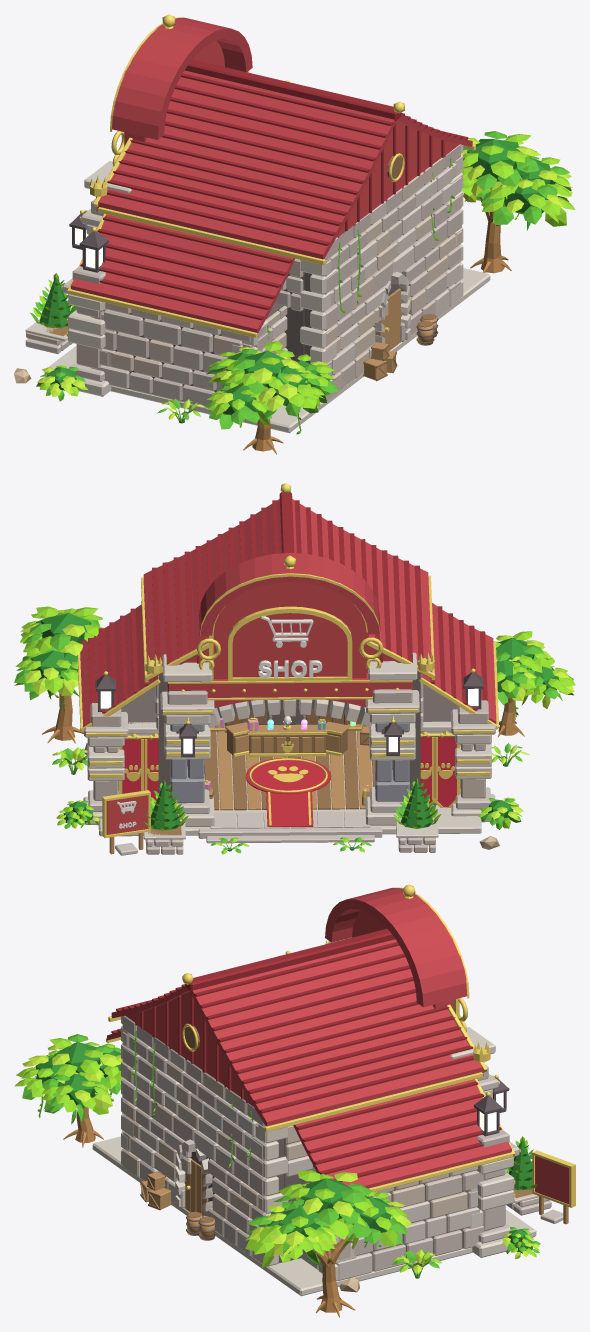
Rendered from Floor1_Shop.fbx.
3 views of the same model, one above another, from view 1: azimuth 30°, elevation 25°; view 2: azimuth 150°, elevation 25°; view 3: azimuth 270°, elevation 25° (orthographic). The views are drawn at different scales.
Parts seen in each view (by area): view 1: Shop_Roof_Main__Shop_Roof, Shop_Roof_Main__Shop_Roof_Dark, Shop_Walls_Hall__Castle_Stone, Shop_Front_Gable__Shop_Roof, Shop_Walls_Wings__Castle_Stone, Shop_Walls_Hall__Castle_Stone_Light, Shop_Walls_Hall__Castle_Stone_Warm, Shop_Walls_Hall__Castle_Trim, Shop_Roof_Main__Gold, Shop_Roof_Main__Red_Wood, Shop_Land_Tree_Small_9__Leaves_Light, Shop_Land_Tree_Medium_High_8__Leaves_Light (+21 smaller); view 2: Shop_Roof_Main__Shop_Roof, Shop_Roof_Main__Shop_Roof_Dark, Shop_Main_Sign__Red_Wood, Shop_Pillars__Castle_Trim, Shop_Front_Gable__Shop_Roof, Shop_Front_Gable__Red_Wood, Shop_Floor__Castle_Stone_Light, Shop_Walls_Wings__Castle_Trim, Shop_Entrance_Arch__Red_Wood, Shop_Pillars__Shop_Stone_Dark, Shop_Floor__Interior_Wood, Shop_Floor__Shop_Wood (+46 smaller); view 3: Shop_Roof_Main__Shop_Roof, Shop_Roof_Main__Shop_Roof_Dark, Shop_Walls_Hall__Castle_Stone, Shop_Front_Gable__Shop_Roof, Shop_Walls_Hall__Castle_Stone_Light, Shop_Walls_Hall__Castle_Stone_Warm, Shop_Walls_Wings__Castle_Stone, Shop_Land_Tree_Medium_High_8__Leaves_Light, Shop_Walls_Wings__Castle_Stone_Light, Shop_Floor__Castle_Trim, Shop_Roof_Main__Red_Wood, Shop_Walls_Hall__Castle_Trim (+21 smaller).
Part boxes in pixels (box(x1,y1,x2,y2)): Shop_Roof_Main__Shop_Roof: box(70, 70, 472, 333); Shop_Roof_Main__Shop_Roof_Dark: box(80, 59, 468, 320); Shop_Walls_Hall__Castle_Stone: box(275, 145, 461, 388); Shop_Front_Gable__Shop_Roof: box(111, 17, 252, 139); Shop_Walls_Wings__Castle_Stone: box(72, 266, 287, 407); Shop_Walls_Hall__Castle_Stone_Light: box(281, 163, 461, 375); Shop_Walls_Hall__Castle_Stone_Warm: box(289, 157, 461, 400); Shop_Walls_Hall__Castle_Trim: box(300, 144, 463, 397); Shop_Roof_Main__Gold: box(67, 101, 475, 337); Shop_Roof_Main__Red_Wood: box(337, 121, 459, 237); Shop_Land_Tree_Small_9__Leaves_Light: box(207, 340, 335, 427); Shop_Land_Tree_Medium_High_8__Leaves_Light: box(461, 134, 575, 226); Shop_Roof_Main__Shop_Roof: box(80, 499, 496, 726); Shop_Roof_Main__Shop_Roof_Dark: box(88, 492, 487, 713); Shop_Main_Sign__Red_Wood: box(232, 613, 347, 677); Shop_Pillars__Castle_Trim: box(162, 652, 417, 826); Shop_Front_Gable__Shop_Roof: box(199, 553, 380, 635); Shop_Front_Gable__Red_Wood: box(161, 582, 418, 679); Shop_Floor__Castle_Stone_Light: box(198, 811, 382, 843); Shop_Walls_Wings__Castle_Trim: box(83, 721, 495, 824); Shop_Entrance_Arch__Red_Wood: box(167, 673, 412, 707); Shop_Pillars__Shop_Stone_Dark: box(170, 723, 409, 803); Shop_Floor__Interior_Wood: box(204, 730, 375, 810); Shop_Floor__Shop_Wood: box(217, 730, 372, 810); Shop_Roof_Main__Shop_Roof: box(107, 939, 511, 1188); Shop_Roof_Main__Shop_Roof_Dark: box(111, 928, 501, 1181); Shop_Walls_Hall__Castle_Stone: box(122, 1015, 265, 1263); Shop_Front_Gable__Shop_Roof: box(325, 888, 467, 1007); Shop_Walls_Hall__Castle_Stone_Light: box(122, 1031, 312, 1256); Shop_Walls_Hall__Castle_Stone_Warm: box(122, 1060, 313, 1219); Shop_Walls_Wings__Castle_Stone: box(338, 1129, 509, 1271); Shop_Land_Tree_Medium_High_8__Leaves_Light: box(245, 1170, 407, 1268); Shop_Walls_Wings__Castle_Stone_Light: box(300, 1142, 519, 1280); Shop_Floor__Castle_Trim: box(92, 1136, 536, 1296); Shop_Roof_Main__Red_Wood: box(125, 992, 253, 1106); Shop_Walls_Hall__Castle_Trim: box(121, 1016, 288, 1266).
Bounding box in the file's own units: 7444 × 3988 × 6927.
